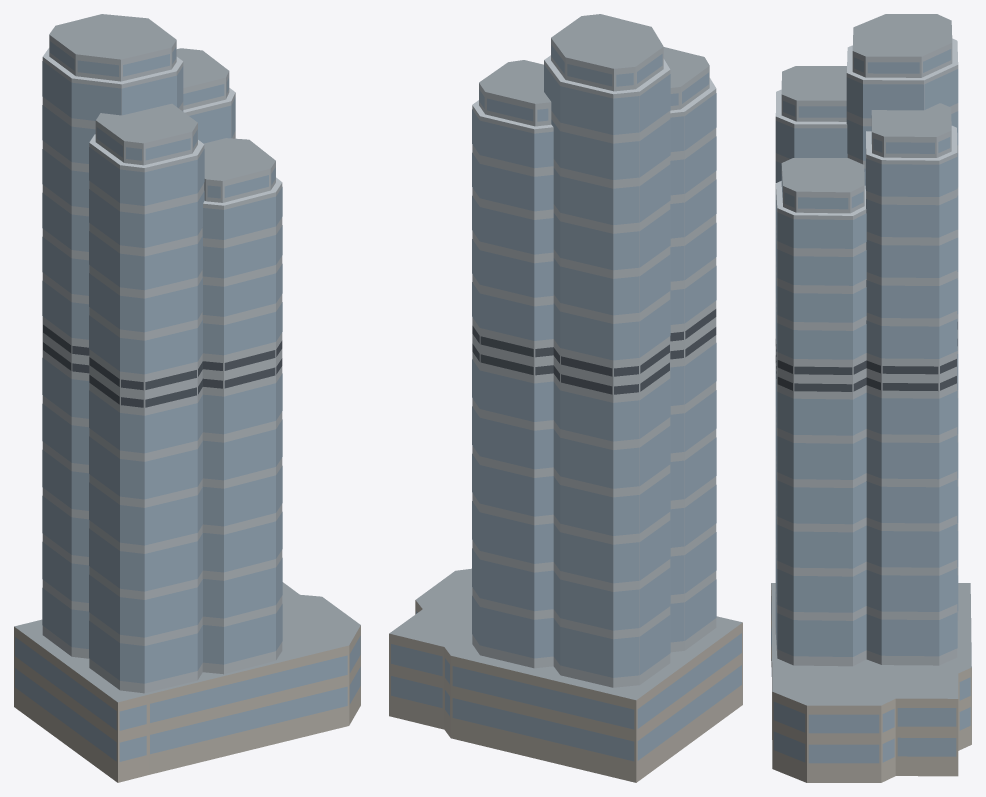
The model's file is pit-one-oxford-centre.glb.
3 views of the same model, side by side, from view 1: azimuth 30°, elevation 25°; view 2: azimuth 150°, elevation 25°; view 3: azimuth 270°, elevation 25° (orthographic). The views are drawn at different scales.
Parts seen in each view (by area): view 1: One Oxford Centre; view 2: One Oxford Centre; view 3: One Oxford Centre.
Part boxes in pixels (x1,y1,x2,y2): One Oxford Centre: [14, 14, 360, 782]; One Oxford Centre: [389, 14, 742, 782]; One Oxford Centre: [771, 14, 971, 782].
Bounding box in the file's own units: 74.88 × 186 × 51.77.
